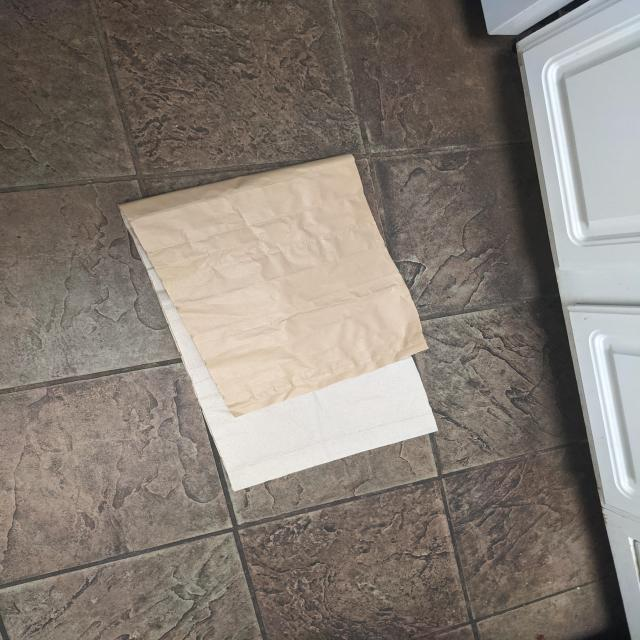litter: (116, 153, 439, 493)
